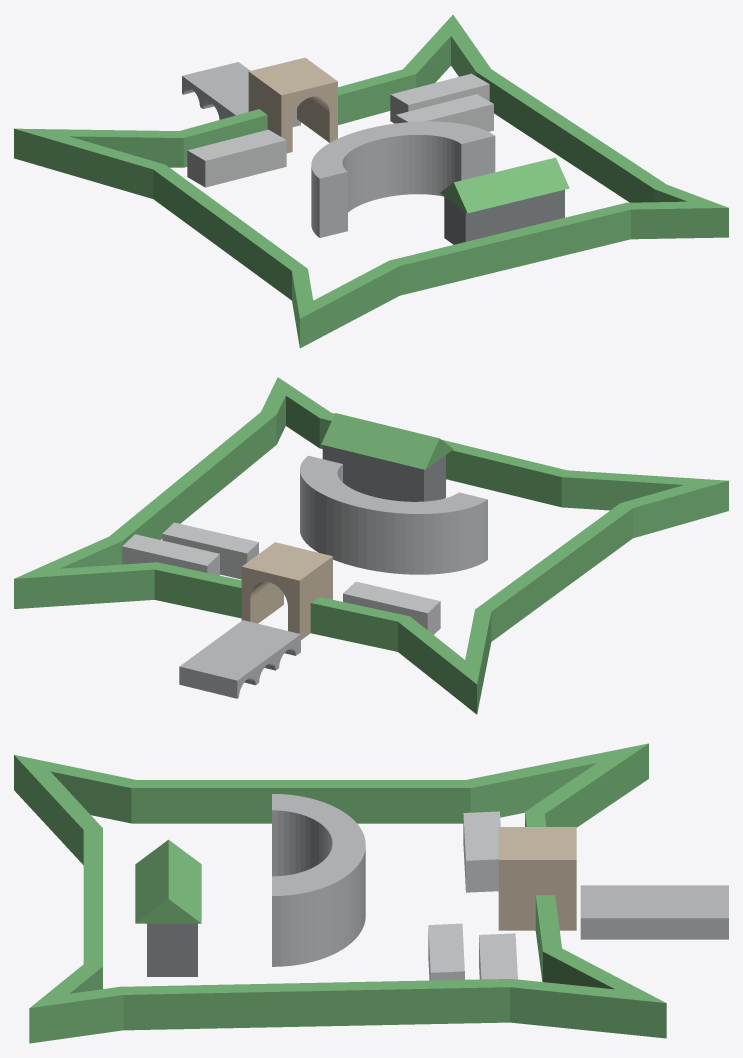
File: fort1.gltf
3 views of the same model, one above another, from view 1: azimuth 30°, elevation 25°; view 2: azimuth 150°, elevation 25°; view 3: azimuth 270°, elevation 25° (orthographic). The views are drawn at different scales.
Parts seen in each view (by area): view 1: Mesh_Mesh_head_geo.001_lambert2SG.001; view 2: Mesh_Mesh_head_geo.001_lambert2SG.001; view 3: Mesh_Mesh_head_geo.001_lambert2SG.001.
Part boxes in pixels (x1=…): Mesh_Mesh_head_geo.001_lambert2SG.001: x1=14, y1=14, x2=728, y2=348; Mesh_Mesh_head_geo.001_lambert2SG.001: x1=14, y1=377, x2=728, y2=714; Mesh_Mesh_head_geo.001_lambert2SG.001: x1=14, y1=743, x2=728, y2=1043.
Size of the model in its own units: 0.1604 by 0.025 by 0.1831.
